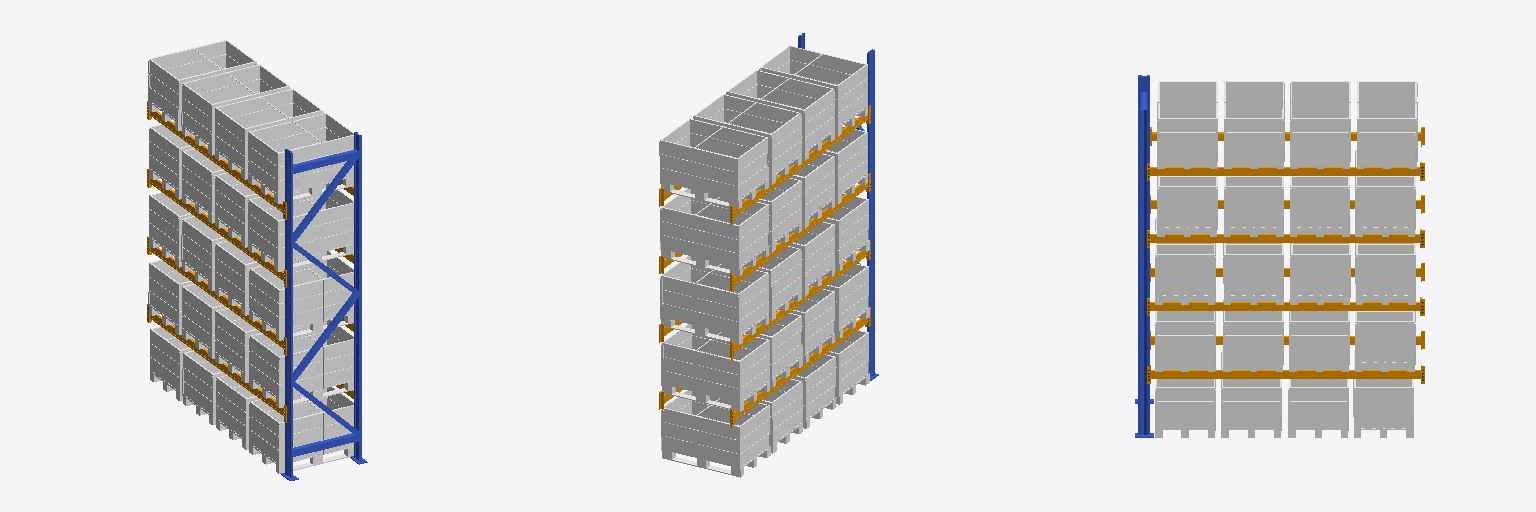
File: StorageShelf.obj
3 renders of one model, left to right at view 1: azimuth 30°, elevation 25°; view 2: azimuth 150°, elevation 25°; view 3: azimuth 270°, elevation 25°, orthographic.
Visible parts, largest first — view 1: staander_magazijn_stelling_001_Mesh.048, palletkrat_005_Mesh.031, palletkrat_003_Mesh.039, palletkrat_004_Mesh.035, palletkrat_002_Mesh.043, palletkrat_001_Mesh.047, palletkrat_020_Mesh.001, palletkrat_018_Mesh.005, palletkrat_019_Mesh.003, palletkrat_012_Mesh.017, palletkrat_009_Mesh.023, palletkrat_013_Mesh.015 (+18 smaller); view 2: palletkrat_020_Mesh.001, palletkrat_014_Mesh.013, palletkrat_011_Mesh.019, palletkrat_017_Mesh.007, palletkrat_008_Mesh.025, palletkrat_019_Mesh.003, palletkrat_005_Mesh.031, palletkrat_018_Mesh.005, staander_magazijn_stelling_001_Mesh.048, palletkrat_003_Mesh.039, palletkrat_002_Mesh.043, palletkrat_012_Mesh.017 (+18 smaller); view 3: palletkrat_019_Mesh.003, palletkrat_018_Mesh.005, palletkrat_020_Mesh.001, palletkrat_005_Mesh.031, staander_magazijn_stelling_001_Mesh.048, palletkrat_003_Mesh.039, palletkrat_013_Mesh.015, palletkrat_017_Mesh.007, palletkrat_010_Mesh.021, palletkrat_009_Mesh.023, palletkrat_002_Mesh.043, palletkrat_014_Mesh.013 (+13 smaller).
Part boxes in pixels (x1,y1,x2,y2): staander_magazijn_stelling_001_Mesh.048: (281,132,367,480); palletkrat_005_Mesh.031: (248,113,353,193); palletkrat_003_Mesh.039: (249,251,353,330); palletkrat_004_Mesh.035: (248,183,353,261); palletkrat_002_Mesh.043: (249,320,353,397); palletkrat_001_Mesh.047: (249,387,353,463); palletkrat_020_Mesh.001: (148,40,257,121); palletkrat_018_Mesh.005: (215,89,323,169); palletkrat_019_Mesh.003: (181,64,290,145); palletkrat_012_Mesh.017: (215,237,273,305); palletkrat_009_Mesh.023: (215,305,261,372); palletkrat_013_Mesh.015: (181,213,239,281); palletkrat_020_Mesh.001: (659,119,768,201); palletkrat_014_Mesh.013: (660,256,768,337); palletkrat_011_Mesh.019: (661,324,769,404); palletkrat_017_Mesh.007: (660,188,768,268); palletkrat_008_Mesh.025: (661,390,769,469); palletkrat_019_Mesh.003: (693,94,801,177); palletkrat_005_Mesh.031: (759,45,867,128); palletkrat_018_Mesh.005: (726,70,834,153); staander_magazijn_stelling_001_Mesh.048: (798,33,878,380); palletkrat_003_Mesh.039: (810,193,868,263); palletkrat_002_Mesh.043: (810,261,868,330); palletkrat_012_Mesh.017: (776,218,834,288); palletkrat_019_Mesh.003: (1290,81,1350,161); palletkrat_018_Mesh.005: (1224,81,1284,161); palletkrat_020_Mesh.001: (1357,81,1417,161); palletkrat_005_Mesh.031: (1157,81,1217,161); staander_magazijn_stelling_001_Mesh.048: (1135,75,1153,437); palletkrat_003_Mesh.039: (1155,217,1215,297); palletkrat_013_Mesh.015: (1290,217,1350,297); palletkrat_017_Mesh.007: (1355,149,1415,229); palletkrat_010_Mesh.021: (1289,297,1349,364); palletkrat_009_Mesh.023: (1223,297,1283,364); palletkrat_002_Mesh.043: (1155,297,1215,364); palletkrat_014_Mesh.013: (1355,229,1415,297).
Bounding box in the file's own units: 1.23 × 4.8 × 3.87.